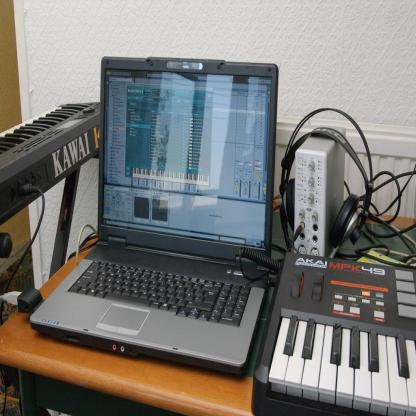board: (25, 56, 288, 386)
